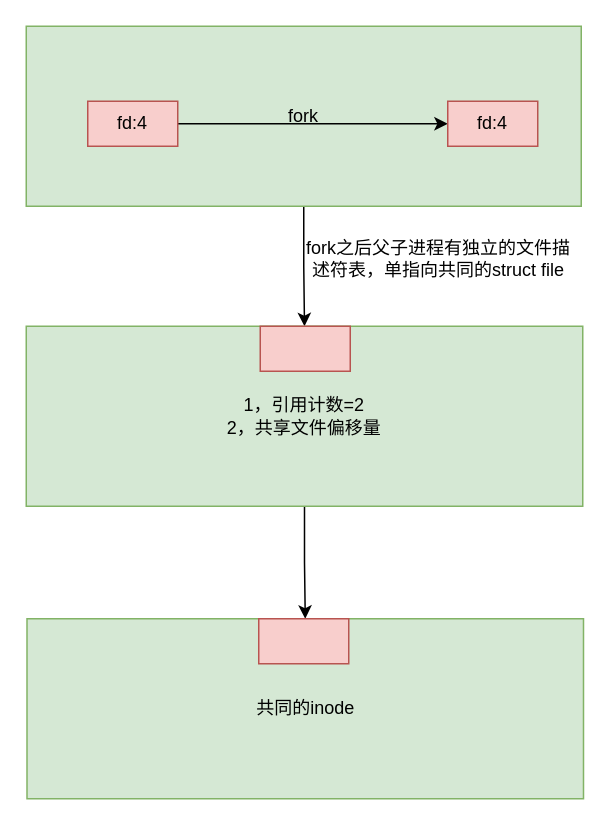
The diagram is 611 pixels wide and 825 high, and some of its shapes have lost their labels. Here are the shapes that lost their labels. From the top down, the centre of each, then its label:
At pixel 304 348: "struct file".
At pixel 303 640: "inode".
